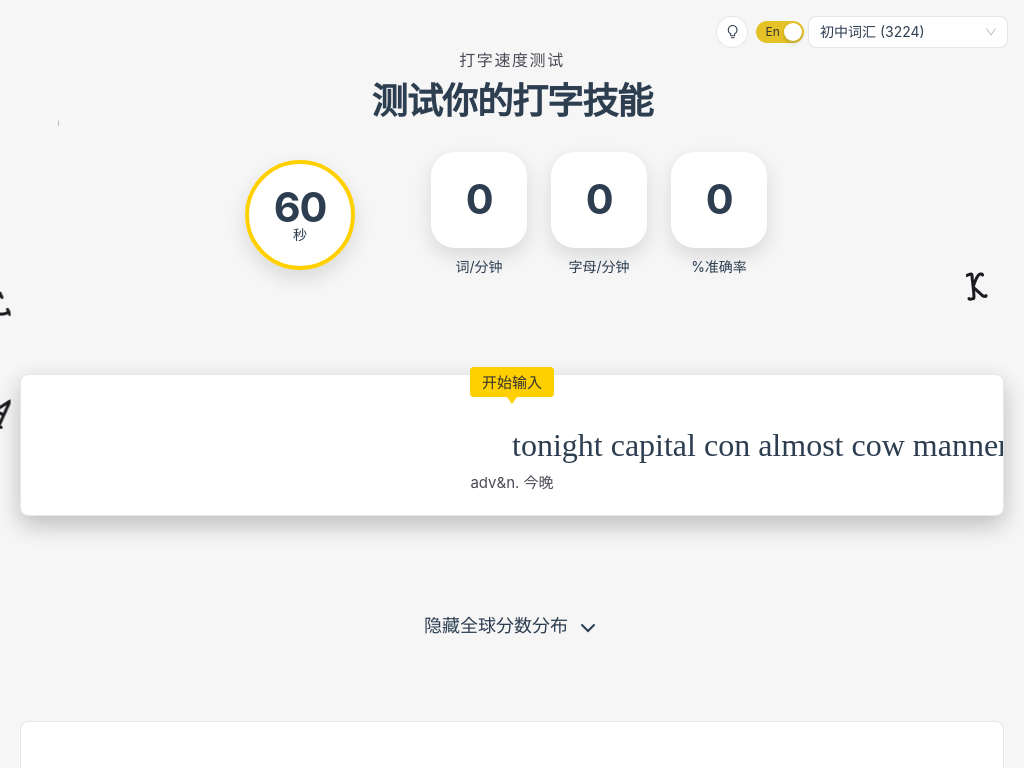
App（整体页面） › 关闭中文释义开关后，界面文案切换为英文
Expected: the heading "测试你的打字技能" is shown, [372, 79, 652, 123]
Click the switch at (780, 32), box [756, 21, 804, 43]
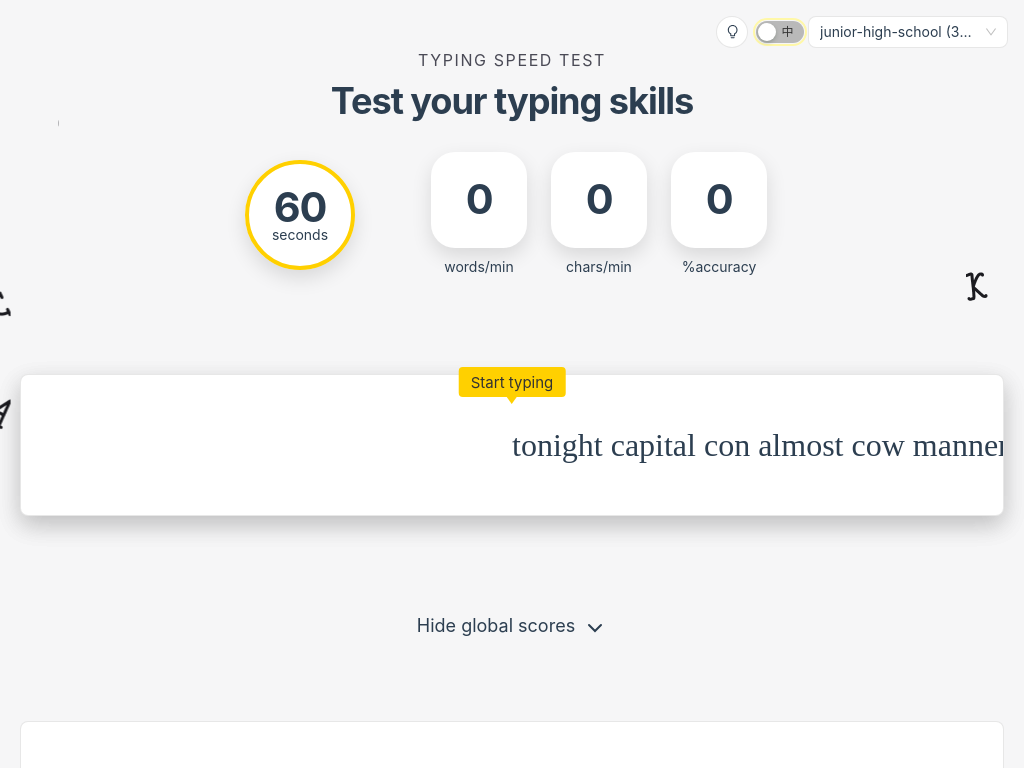
Now the heading "Test your typing skills" is shown, box [331, 79, 693, 123]
